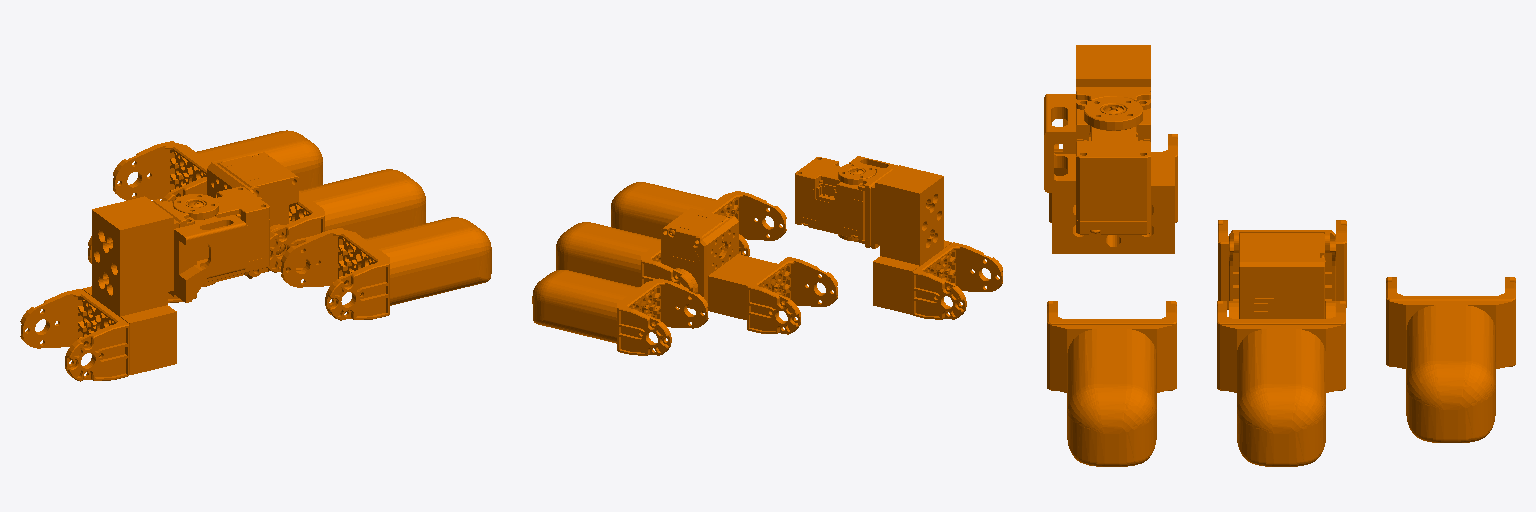
URDF robot description (onshape):
<robot name="onshape">
  <link name="palm_lower">
    <inertial>
      <origin xyz="0.0 0.0 0.0" rpy="0.0 -0.0 0.0"/>
      <mass value="0.237"/>
      <inertia ixx="0.000354094" ixy="-1.193e-06" ixz="-2.445e-06" iyy="0.000260915" iyz="-2.905e-06" izz="0.000529257"/>
    </inertial>
    <visual>
      <geometry>
        <mesh filename="../assets/leap/leap_hand/palm_lower.stl"/>
      </geometry>
      <origin xyz="-0.020095249652862544 0.025757756134899473 -0.034722403578460216" rpy="0.0 -0.0 0.0"/>
      <material name="palm_lower_material">
        <color rgba="0.6039215686274509 0.14901960784313725 0.14901960784313725 1.0"/>
      </material>
    </visual>
    <collision>
      <geometry>
        <mesh filename="../assets/leap/leap_hand/palm_lower.stl"/>
      </geometry>
      <origin xyz="-0.020095249652862544 0.025757756134899473 -0.034722403578460216" rpy="0.0 -0.0 0.0"/>
    </collision>
  </link>
  <link name="mcp_joint">
    <inertial>
      <origin xyz="0.0 0.0 0.0" rpy="0.0 -0.0 0.0"/>
      <mass value="0.044"/>
      <inertia ixx="1.1499e-05" ixy="3.049e-06" ixz="1.21e-07" iyy="7.796e-06" iyz="1.12e-07" izz="1.4759e-05"/>
    </inertial>
    <visual>
      <geometry>
        <mesh filename="../assets/leap/leap_hand/mcp_joint.stl"/>
      </geometry>
      <origin xyz="0.008406902261174496 0.0077662438597169954 0.014657354985032912" rpy="1.6375789613221e-15 -1.021047330249102e-30 1.7177968783327987e-31"/>
      <material name="mcp_joint_material">
        <color rgba="0.8666666666666667 0.8666666666666667 0.050980392156862744 1.0"/>
      </material>
    </visual>
    <collision>
      <geometry>
        <mesh filename="../assets/leap/leap_hand/mcp_joint.stl"/>
      </geometry>
      <origin xyz="0.008406902261174496 0.0077662438597169954 0.014657354985032912" rpy="1.6375789613221e-15 -1.021047330249102e-30 1.7177968783327987e-31"/>
    </collision>
  </link>
  <link name="pip">
    <inertial>
      <origin xyz="0.0 0.0 0.0" rpy="0.0 -0.0 0.0"/>
      <mass value="0.032"/>
      <inertia ixx="4.798e-06" ixy="1.2e-08" ixz="4e-09" iyy="2.862e-06" iyz="1.1e-08" izz="4.234e-06"/>
    </inertial>
    <visual>
      <geometry>
        <mesh filename="../assets/leap/leap_hand/pip.stl"/>
      </geometry>
      <origin xyz="0.009643363092271328 0.0002999999999999895 0.0007840340104173765" rpy="-1.5707963267948966 -1.5707963267948963 0.0"/>
      <material name="pip_material">
        <color rgba="0.7490196078431373 0.7490196078431373 0.7490196078431373 1.0"/>
      </material>
    </visual>
    <collision>
      <geometry>
        <mesh filename="../assets/leap/leap_hand/pip.stl"/>
      </geometry>
      <origin xyz="0.009643363092271328 0.0002999999999999895 0.0007840340104173765" rpy="-1.5707963267948966 -1.5707963267948963 0.0"/>
    </collision>
  </link>
  <link name="dip">
    <inertial>
      <origin xyz="0.0 0.0 0.0" rpy="0.0 -0.0 0.0"/>
      <mass value="0.037"/>
      <inertia ixx="5.542e-06" ixy="-6.07e-07" ixz="-1.7e-08" iyy="5.727e-06" iyz="-2.3e-08" izz="6.682e-06"/>
    </inertial>
    <visual>
      <geometry>
        <mesh filename="../assets/leap/leap_hand/dip.stl"/>
      </geometry>
      <origin xyz="0.021133352895225003 -0.00843211914670488 0.00978508816209524" rpy="-3.141592653589793 4.507511124216441e-32 4.439548105392361e-32"/>
      <material name="dip_material">
        <color rgba="0.8666666666666667 0.8666666666666667 0.050980392156862744 1.0"/>
      </material>
    </visual>
    <collision>
      <geometry>
        <mesh filename="../assets/leap/leap_hand/dip.stl"/>
      </geometry>
      <origin xyz="0.021133352895225003 -0.00843211914670488 0.00978508816209524" rpy="-3.141592653589793 4.507511124216441e-32 4.439548105392361e-32"/>
    </collision>
  </link>
  <link name="fingertip_long">
    <inertial>
      <origin xyz="0.0 0.0 0.0" rpy="0.0 -0.0 0.0"/>
      <mass value="0.016"/>
      <inertia ixx="3.368e-06" ixy="1.15e-07" ixz="0.0" iyy="1.556e-06" iyz="0.0" izz="2.863e-06"/>
    </inertial>
    <visual>
      <geometry>
        <mesh filename="custom_models/fingertip_long.stl"/>
      </geometry>
      <origin xyz="0.013286424108533503 -0.006114238386541987 0.014499999999999498" rpy="3.141592653589793 1.1993117970061735e-33 4.439548105392361e-32"/>
      <material name="fingertip_material">
        <color rgba="0.878 0.467 0.0 1.0"/>
      </material>
    </visual>
    <collision>
      <geometry>
        <mesh filename="custom_models/fingertip_long.stl"/>
      </geometry>
      <origin xyz="0.013286424108533503 -0.006114238386541987 0.014499999999999498" rpy="3.141592653589793 1.1993117970061735e-33 4.439548105392361e-32"/>
    </collision>
  </link>
  <link name="pip_4">
    <inertial>
      <origin xyz="0.0 0.0 0.0" rpy="0.0 -0.0 0.0"/>
      <mass value="0.032"/>
      <inertia ixx="4.798e-06" ixy="1.2e-08" ixz="4e-09" iyy="2.862e-06" iyz="1.1e-08" izz="4.234e-06"/>
    </inertial>
    <visual>
      <geometry>
        <mesh filename="../assets/leap/leap_hand/pip.stl"/>
      </geometry>
      <origin xyz="-0.005356636907728671 0.0002999999999999999 0.0007840340104173782" rpy="-1.5707963267948966 -1.5707963267948963 0.0"/>
      <material name="pip_material">
        <color rgba="0.7490196078431373 0.7490196078431373 0.7490196078431373 1.0"/>
      </material>
    </visual>
    <collision>
      <geometry>
        <mesh filename="../assets/leap/leap_hand/pip.stl"/>
      </geometry>
      <origin xyz="-0.005356636907728671 0.0002999999999999999 0.0007840340104173782" rpy="-1.5707963267948966 -1.5707963267948963 0.0"/>
    </collision>
  </link>
  <link name="thumb_pip">
    <inertial>
      <origin xyz="0.0 0.0 0.0" rpy="0.0 -0.0 0.0"/>
      <mass value="0.003"/>
      <inertia ixx="5.93e-07" ixy="0.0" ixz="0.0" iyy="5.49e-07" iyz="0.0" izz="2.24e-07"/>
    </inertial>
    <visual>
      <geometry>
        <mesh filename="../assets/leap/leap_hand/thumb_pip.stl"/>
      </geometry>
      <origin xyz="0.011961920770611187 -5.30825383648903e-16 -0.0158526489566642" rpy="1.5707963267948966 1.6050198443300153e-46 -3.9204996250525193e-59"/>
      <material name="thumb_pip_material">
        <color rgba="0.8666666666666667 0.8666666666666667 0.050980392156862744 1.0"/>
      </material>
    </visual>
    <collision>
      <geometry>
        <mesh filename="../assets/leap/leap_hand/thumb_pip.stl"/>
      </geometry>
      <origin xyz="0.011961920770611187 -5.30825383648903e-16 -0.0158526489566642" rpy="1.5707963267948966 1.6050198443300153e-46 -3.9204996250525193e-59"/>
    </collision>
  </link>
  <link name="thumb_dip">
    <inertial>
      <origin xyz="0.0 0.0 0.0" rpy="0.0 -0.0 0.0"/>
      <mass value="0.038"/>
      <inertia ixx="8.474e-06" ixy="2.41e-07" ixz="2.6e-08" iyy="3.841e-06" iyz="2.5e-08" izz="7.679e-06"/>
    </inertial>
    <visual>
      <geometry>
        <mesh filename="../assets/leap/leap_hand/thumb_dip.stl"/>
      </geometry>
      <origin xyz="0.043968715707239175 0.0579529529737092 -0.008628676449369476" rpy="1.94289029309401e-16 3.27515792264422e-15 1.112375852965736e-46"/>
      <material name="thumb_dip_material">
        <color rgba="0.8666666666666667 0.8666666666666667 0.050980392156862744 1.0"/>
      </material>
    </visual>
    <collision>
      <geometry>
        <mesh filename="../assets/leap/leap_hand/thumb_dip.stl"/>
      </geometry>
      <origin xyz="0.043968715707239175 0.0579529529737092 -0.008628676449369476" rpy="1.94289029309401e-16 3.27515792264422e-15 1.112375852965736e-46"/>
    </collision>
  </link>
  <link name="thumb_fingertip">
    <inertial>
      <origin xyz="0.0 0.0 0.0" rpy="0.0 -0.0 0.0"/>
      <mass value="0.049"/>
      <inertia ixx="2.0372e-05" ixy="-4.89e-07" ixz="-3e-08" iyy="4.336e-06" iyz="-9.7e-08" izz="1.9845e-05"/>
    </inertial>
    <visual>
      <geometry>
        <mesh filename="../assets/leap/leap_hand/thumb_fingertip.stl"/>
      </geometry>
      <origin xyz="0.06255953846266739 0.07845968291139699 0.048992911807332215" rpy="4.379057701015637e-47 -3.33066907387547e-16 1.2042408677791935e-46"/>
      <material name="thumb_fingertip_material">
        <color rgba="0.6039215686274509 0.14901960784313725 0.14901960784313725 1.0"/>
      </material>
    </visual>
    <collision>
      <geometry>
        <mesh filename="../assets/leap/leap_hand/thumb_fingertip.stl"/>
      </geometry>
      <origin xyz="0.06255953846266739 0.07845968291139699 0.048992911807332215" rpy="4.379057701015637e-47 -3.33066907387547e-16 1.2042408677791935e-46"/>
    </collision>
  </link>
  <link name="mcp_joint_2">
    <inertial>
      <origin xyz="0.0 0.0 0.0" rpy="0.0 -0.0 0.0"/>
      <mass value="0.044"/>
      <inertia ixx="1.1499e-05" ixy="3.049e-06" ixz="1.21e-07" iyy="7.796e-06" iyz="1.12e-07" izz="1.4759e-05"/>
    </inertial>
    <visual>
      <geometry>
        <mesh filename="../assets/leap/leap_hand/mcp_joint.stl"/>
      </geometry>
      <origin xyz="0.008406902261174496 0.0077662438597169954 0.014657354985032914" rpy="1.6375789613221e-15 -1.0076465469034e-30 2.1209300131419907e-61"/>
      <material name="mcp_joint_material">
        <color rgba="0.8666666666666667 0.8666666666666667 0.050980392156862744 1.0"/>
      </material>
    </visual>
    <collision>
      <geometry>
        <mesh filename="../assets/leap/leap_hand/mcp_joint.stl"/>
      </geometry>
      <origin xyz="0.008406902261174496 0.0077662438597169954 0.014657354985032914" rpy="1.6375789613221e-15 -1.0076465469034e-30 2.1209300131419907e-61"/>
    </collision>
  </link>
  <link name="pip_2">
    <inertial>
      <origin xyz="0.0 0.0 0.0" rpy="0.0 -0.0 0.0"/>
      <mass value="0.032"/>
      <inertia ixx="4.798e-06" ixy="1.2e-08" ixz="4e-09" iyy="2.862e-06" iyz="1.1e-08" izz="4.234e-06"/>
    </inertial>
    <visual>
      <geometry>
        <mesh filename="../assets/leap/leap_hand/pip.stl"/>
      </geometry>
      <origin xyz="0.009643363092271328 0.0002999999999999947 0.0007840340104173765" rpy="-1.5707963267948966 -1.5707963267948963 0.0"/>
      <material name="pip_material">
        <color rgba="0.7490196078431373 0.7490196078431373 0.7490196078431373 1.0"/>
      </material>
    </visual>
    <collision>
      <geometry>
        <mesh filename="../assets/leap/leap_hand/pip.stl"/>
      </geometry>
      <origin xyz="0.009643363092271328 0.0002999999999999947 0.0007840340104173765" rpy="-1.5707963267948966 -1.5707963267948963 0.0"/>
    </collision>
  </link>
  <link name="dip_2_long">
    <inertial>
      <origin xyz="0.0 0.0 0.0" rpy="0.0 -0.0 0.0"/>
      <mass value="0.037"/>
      <inertia ixx="5.542e-06" ixy="-6.07e-07" ixz="-1.7e-08" iyy="5.727e-06" iyz="-2.3e-08" izz="6.682e-06"/>
    </inertial>
    <visual>
      <geometry>
        <mesh filename="custom_models/dip_long.stl"/>
      </geometry>
      <origin xyz="0.021133352895225003 -0.008432119146704865 0.009785088162095237" rpy="-3.141592653589793 2.1146933785271956e-32 1.4408183216511869e-31"/>
      <material name="dip_material">
        <color rgba="0.878 0.467 0.0 1.0"/>
      </material>
    </visual>
    <collision>
      <geometry>
        <mesh filename="custom_models/dip_long.stl"/>
      </geometry>
      <origin xyz="0.021133352895225003 -0.008432119146704865 0.009785088162095237" rpy="-3.141592653589793 2.1146933785271956e-32 1.4408183216511869e-31"/>
    </collision>
  </link>
  <link name="fingertip_2_long">
    <inertial>
      <origin xyz="0.0 0.0 0.0" rpy="0.0 -0.0 0.0"/>
      <mass value="0.016"/>
      <inertia ixx="3.368e-06" ixy="1.15e-07" ixz="0.0" iyy="1.556e-06" iyz="0.0" izz="2.863e-06"/>
    </inertial>
    <visual>
      <geometry>
        <mesh filename="custom_models/fingertip_long.stl"/>
      </geometry>
      <origin xyz="0.013286424108533496 -0.006114238386542001 0.014499999999999496" rpy="3.141592653589793 -4.317959788283594e-33 1.4408183216511869e-31"/>
      <material name="fingertip_material">
        <color rgba="0.878 0.467 0.0 1.0"/>
      </material>
    </visual>
    <collision>
      <geometry>
        <mesh filename="custom_models/fingertip_long.stl"/>
      </geometry>
      <origin xyz="0.013286424108533496 -0.006114238386542001 0.014499999999999496" rpy="3.141592653589793 -4.317959788283594e-33 1.4408183216511869e-31"/>
    </collision>
  </link>
  <link name="mcp_joint_3_long">
    <inertial>
      <origin xyz="0.0 0.0 0.0" rpy="0.0 -0.0 0.0"/>
      <mass value="0.044"/>
      <inertia ixx="1.1499e-05" ixy="3.049e-06" ixz="1.21e-07" iyy="7.796e-06" iyz="1.12e-07" izz="1.4759e-05"/>
    </inertial>
    <visual>
      <geometry>
        <mesh filename="custom_models/mcp_joint_long.stl"/>
      </geometry>
      <origin xyz="0.0084069022611745 0.007766243859716996 0.014657354985032914" rpy="1.6375789613221e-15 -1.0059504988632627e-30 5.729641584552035e-32"/>
      <material name="mcp_joint_material">
        <color rgba="0.878 0.467 0.0 1.0"/>
      </material>
    </visual>
    <collision>
      <geometry>
        <mesh filename="custom_models/mcp_joint_long.stl"/>
      </geometry>
      <origin xyz="0.0084069022611745 0.007766243859716996 0.014657354985032914" rpy="1.6375789613221e-15 -1.0059504988632627e-30 5.729641584552035e-32"/>
    </collision>
  </link>
  <link name="pip_3">
    <inertial>
      <origin xyz="0.0 0.0 0.0" rpy="0.0 -0.0 0.0"/>
      <mass value="0.032"/>
      <inertia ixx="4.798e-06" ixy="1.2e-08" ixz="4e-09" iyy="2.862e-06" iyz="1.1e-08" izz="4.234e-06"/>
    </inertial>
    <visual>
      <geometry>
        <mesh filename="../assets/leap/leap_hand/pip.stl"/>
      </geometry>
      <origin xyz="0.009643363092271331 0.00029999999999998084 0.0007840340104173765" rpy="-1.5707963267948966 -1.5707963267948963 0.0"/>
      <material name="pip_material">
        <color rgba="0.7490196078431373 0.7490196078431373 0.7490196078431373 1.0"/>
      </material>
    </visual>
    <collision>
      <geometry>
        <mesh filename="../assets/leap/leap_hand/pip.stl"/>
      </geometry>
      <origin xyz="0.009643363092271331 0.00029999999999998084 0.0007840340104173765" rpy="-1.5707963267948966 -1.5707963267948963 0.0"/>
    </collision>
  </link>
  <link name="dip_3">
    <inertial>
      <origin xyz="0.0 0.0 0.0" rpy="0.0 -0.0 0.0"/>
      <mass value="0.037"/>
      <inertia ixx="5.542e-06" ixy="-6.07e-07" ixz="-1.7e-08" iyy="5.727e-06" iyz="-2.3e-08" izz="6.682e-06"/>
    </inertial>
    <visual>
      <geometry>
        <mesh filename="../assets/leap/leap_hand/dip.stl"/>
      </geometry>
      <origin xyz="0.021133352895225006 -0.008432119146704865 0.009785088162095237" rpy="-3.141592653589793 -1.4095651113919093e-33 1.5565411607615035e-32"/>
      <material name="dip_material">
        <color rgba="0.8666666666666667 0.8666666666666667 0.050980392156862744 1.0"/>
      </material>
    </visual>
    <collision>
      <geometry>
        <mesh filename="../assets/leap/leap_hand/dip.stl"/>
      </geometry>
      <origin xyz="0.021133352895225006 -0.008432119146704865 0.009785088162095237" rpy="-3.141592653589793 -1.4095651113919093e-33 1.5565411607615035e-32"/>
    </collision>
  </link>
  <link name="fingertip_3_long">
    <inertial>
      <origin xyz="0.0 0.0 0.0" rpy="0.0 -0.0 0.0"/>
      <mass value="0.016"/>
      <inertia ixx="3.368e-06" ixy="1.15e-07" ixz="0.0" iyy="1.556e-06" iyz="0.0" izz="2.863e-06"/>
    </inertial>
    <visual>
      <geometry>
        <mesh filename="custom_models/fingertip_long.stl"/>
      </geometry>
      <origin xyz="0.013286424108533501 -0.006114238386541987 0.0144999999999995" rpy="3.141592653589793 8.61707169505754e-33 1.5565411607615035e-32"/>
      <material name="fingertip_material">
        <color rgba="0.878 0.467 0.0 1.0"/>
      </material>
    </visual>
    <collision>
      <geometry>
        <mesh filename="custom_models/fingertip_long.stl"/>
      </geometry>
      <origin xyz="0.013286424108533501 -0.006114238386541987 0.0144999999999995" rpy="3.141592653589793 8.61707169505754e-33 1.5565411607615035e-32"/>
    </collision>
  </link>
  <joint name="1" type="revolute">
    <parent link="palm_lower"/>
    <child link="mcp_joint"/>
    <origin xyz="-0.007095249652862546 0.023057756134899472 -0.01872240357846022" rpy="1.570796326794895 1.5707963267948946 0.0"/>
    <axis xyz="0.0 0.0 -1.0"/>
    <limit effort="0.95" velocity="8.48" lower="-0.314" upper="2.23"/>
  </joint>
  <joint name="0" type="revolute">
    <parent link="mcp_joint"/>
    <child link="pip"/>
    <origin xyz="-0.012200000000000008 0.038099999999999995 0.0145" rpy="-1.5707963267948966 -1.0065212660796337e-15 1.5707963267948943"/>
    <axis xyz="0.0 0.0 -1.0"/>
    <limit effort="0.95" velocity="8.48" lower="-1.047" upper="1.047"/>
  </joint>
  <joint name="2" type="revolute">
    <parent link="pip"/>
    <child link="dip"/>
    <origin xyz="0.014999999999999968 0.014299999999999905 -0.012999999999999824" rpy="1.570796326794896 -1.5707963267948963 0.0"/>
    <axis xyz="0.0 0.0 -1.0"/>
    <limit effort="0.95" velocity="8.48" lower="-0.506" upper="1.885"/>
  </joint>
  <joint name="3" type="revolute">
    <parent link="dip"/>
    <child link="fingertip_long"/>
    <origin xyz="-4.088058249557269e-09 -0.03610000421036737 0.0002000000000000786" rpy="4.5935029425113685e-17 -2.8730071914463795e-16 4.439548105392361e-32"/>
    <axis xyz="0.0 0.0 -1.0"/>
    <limit effort="0.95" velocity="8.48" lower="-0.366" upper="2.042"/>
  </joint>
  <joint name="12" type="revolute">
    <parent link="palm_lower"/>
    <child link="pip_4"/>
    <origin xyz="-0.06939524965286253 -0.0012422438651005258 -0.021622403578460216" rpy="-8.238176646493942e-17 1.5707963267948957 0.0"/>
    <axis xyz="0.0 0.0 -1.0"/>
    <limit effort="0.95" velocity="8.48" lower="-0.349" upper="2.094"/>
  </joint>
  <joint name="13" type="revolute">
    <parent link="pip_4"/>
    <child link="thumb_pip"/>
    <origin xyz="-2.7755575615628914e-17 0.014300000000000005 -0.013000000000000012" rpy="1.570796326794896 -1.5707963267948963 0.0"/>
    <axis xyz="0.0 0.0 -1.0"/>
    <limit effort="0.95" velocity="8.48" lower="-0.47" upper="2.443"/>
  </joint>
  <joint name="14" type="revolute">
    <parent link="thumb_pip"/>
    <child link="thumb_dip"/>
    <origin xyz="0.0 0.014499999999999966 -0.017000000000000053" rpy="-1.5707963267948966 1.6050198443300131e-46 -1.9721522630516625e-31"/>
    <axis xyz="0.0 0.0 -1.0"/>
    <limit effort="0.95" velocity="8.48" lower="-1.2" upper="1.9"/>
  </joint>
  <joint name="15" type="revolute">
    <parent link="thumb_dip"/>
    <child link="thumb_fingertip"/>
    <origin xyz="-1.249000902703301e-16 0.046599999999999864 0.0001999999999999771" rpy="1.506395849149178e-44 5.423418723393526e-31 3.141592653589793"/>
    <axis xyz="0.0 0.0 -1.0"/>
    <limit effort="0.95" velocity="8.48" lower="-1.34" upper="1.88"/>
  </joint>
  <joint name="5" type="revolute">
    <parent link="palm_lower"/>
    <child link="mcp_joint_2"/>
    <origin xyz="-0.007095249652862546 -0.022392243865100525 -0.01872240357846022" rpy="1.570796326794895 1.5707963267948946 0.0"/>
    <axis xyz="0.0 0.0 -1.0"/>
    <limit effort="0.95" velocity="8.48" lower="-0.314" upper="2.23"/>
  </joint>
  <joint name="4" type="revolute">
    <parent link="mcp_joint_2"/>
    <child link="pip_2"/>
    <origin xyz="-0.012200000000000008 0.038099999999999995 0.0145" rpy="-1.5707963267948966 -1.0065212660796337e-15 1.5707963267948943"/>
    <axis xyz="0.0 0.0 -1.0"/>
    <limit effort="0.95" velocity="8.48" lower="-1.047" upper="1.047"/>
  </joint>
  <joint name="6" type="revolute">
    <parent link="pip_2"/>
    <child link="dip_2_long"/>
    <origin xyz="0.014999999999999968 0.014299999999999905 -0.012999999999999824" rpy="1.570796326794896 -1.5707963267948963 0.0"/>
    <axis xyz="0.0 0.0 -1.0"/>
    <limit effort="0.95" velocity="8.48" lower="-0.506" upper="1.885"/>
  </joint>
  <joint name="7" type="revolute">
    <parent link="dip_2_long"/>
    <child link="fingertip_2_long"/>
    <origin xyz="-4.0880582495572692636e-09 -0.051100004210367367397 0.00020000000000007858714" rpy="4.5935029425113685e-17 -2.8730071914463795e-16 4.439548105392361e-32"/>
    <axis xyz="0.0 0.0 -1.0"/>
    <limit effort="0.95" velocity="8.48" lower="-0.366" upper="2.042"/>
  </joint>
  <joint name="9" type="revolute">
    <parent link="palm_lower"/>
    <child link="mcp_joint_3_long"/>
    <origin xyz="-0.007095249652862546 -0.06784224386510052 -0.01872240357846022" rpy="1.570796326794895 1.5707963267948946 0.0"/>
    <axis xyz="0.0 0.0 -1.0"/>
    <limit effort="0.95" velocity="8.48" lower="-0.314" upper="2.23"/>
  </joint>
  <joint name="8" type="revolute">
    <parent link="mcp_joint_3_long"/>
    <child link="pip_3"/>
    <origin xyz="-0.012200000000000007713 0.053099999999999994982 0.014500000000000000736" rpy="-1.5707963267948966 -1.0065212660796337e-15 1.5707963267948943"/>
    <axis xyz="0.0 0.0 -1.0"/>
    <limit effort="0.95" velocity="8.48" lower="-1.047" upper="1.047"/>
  </joint>
  <joint name="10" type="revolute">
    <parent link="pip_3"/>
    <child link="dip_3"/>
    <origin xyz="0.014999999999999968 0.014299999999999905 -0.012999999999999824" rpy="1.570796326794896 -1.5707963267948963 0.0"/>
    <axis xyz="0.0 0.0 -1.0"/>
    <limit effort="0.95" velocity="8.48" lower="-0.506" upper="1.885"/>
  </joint>
  <joint name="11" type="revolute">
    <parent link="dip_3"/>
    <child link="fingertip_3_long"/>
    <origin xyz="-4.088058249557269e-09 -0.03610000421036737 0.0002000000000000786" rpy="4.5935029425113685e-17 -2.8730071914463795e-16 4.439548105392361e-32"/>
    <axis xyz="0.0 0.0 -1.0"/>
    <limit effort="0.95" velocity="8.48" lower="-0.366" upper="2.042"/>
  </joint>
</robot>

--- What the picture shows (computed from the rendered views, not written in the file) ---
Views: 3 orthographic renders of the robot side by side, from view 1: azimuth 30°, elevation 25°; view 2: azimuth 150°, elevation 25°; view 3: azimuth 270°, elevation 25°.
Robot: onshape — 17 links, 16 joints (16 revolute); root link palm_lower; default pose: every joint at zero.
Links seen in each view (by area): view 1: mcp_joint_3_long, fingertip_3_long, fingertip_2_long, fingertip_long, dip_2_long; view 2: mcp_joint_3_long, dip_2_long, fingertip_long, fingertip_3_long, fingertip_2_long; view 3: mcp_joint_3_long, fingertip_3_long, fingertip_long, fingertip_2_long, dip_2_long.
Boxes of the visible links, x1,y1,x2,y2 form: mcp_joint_3_long: (20,186,269,381); fingertip_3_long: (281,217,491,320); fingertip_2_long: (267,169,425,272); fingertip_long: (113,130,322,202); dip_2_long: (88,152,298,302); mcp_joint_3_long: (795,156,1002,319); dip_2_long: (661,208,837,334); fingertip_long: (532,270,708,355); fingertip_3_long: (611,182,786,256); fingertip_2_long: (556,222,694,307); mcp_joint_3_long: (1044,45,1177,253); fingertip_3_long: (1047,301,1176,466); fingertip_long: (1386,277,1515,442); fingertip_2_long: (1217,301,1345,466); dip_2_long: (1218,220,1346,318).
Size in the robot's own frame: 0.1766 by 0.1263 by 0.0549 metres.
5 mesh visuals loaded from 10 distinct referenced files (3 binary STL); not drawn: 12 (reference not matched to a file when rendering).